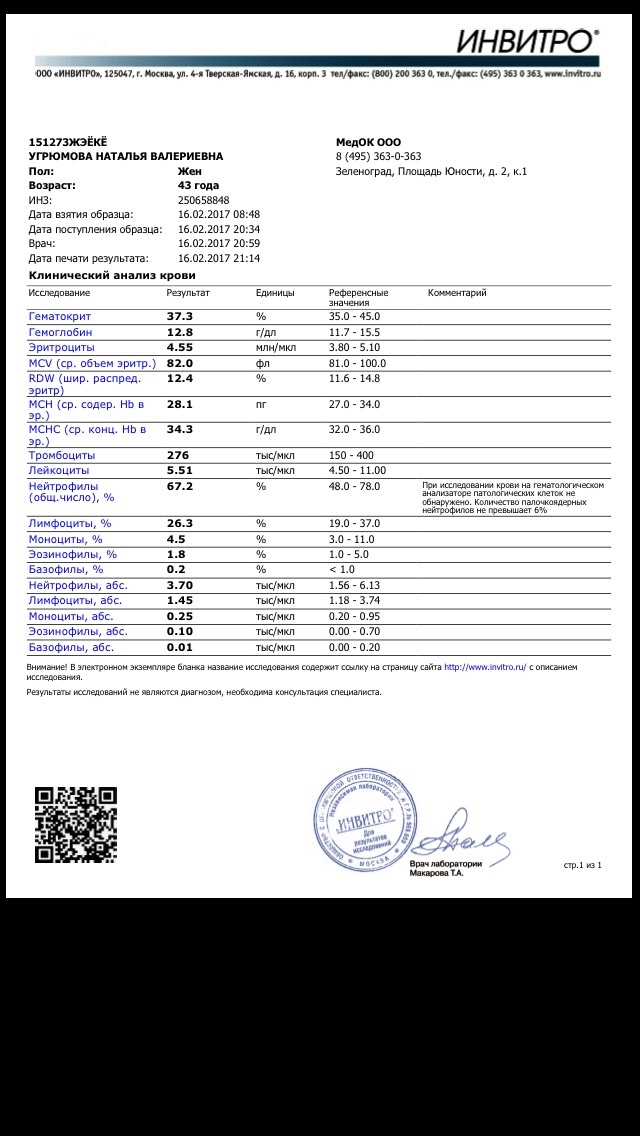column: (420, 285, 605, 655), (27, 285, 157, 655), (327, 285, 389, 655), (165, 285, 211, 655), (254, 285, 297, 655)
